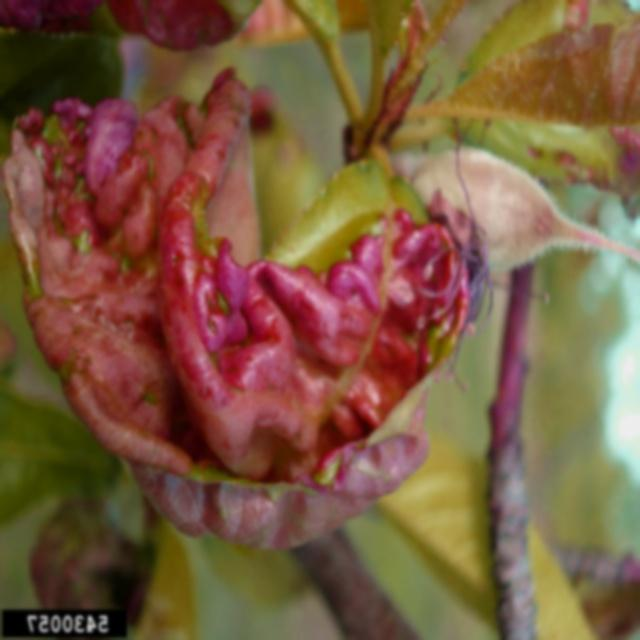leaf_curl: (0, 71, 534, 573)
